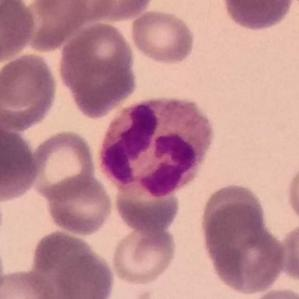Neutrophil: (94, 92, 218, 198)
RBC: (199, 201, 288, 296), (57, 19, 140, 120), (28, 228, 118, 299), (27, 128, 98, 201), (0, 50, 60, 132), (197, 181, 268, 250), (111, 169, 182, 234), (43, 173, 115, 237), (7, 0, 90, 54), (110, 221, 178, 286), (128, 7, 197, 67), (0, 125, 41, 203), (219, 0, 296, 33), (0, 0, 37, 65), (33, 0, 118, 24), (0, 267, 58, 299), (82, 0, 157, 23), (275, 220, 299, 285), (284, 153, 299, 230), (244, 286, 299, 299)
